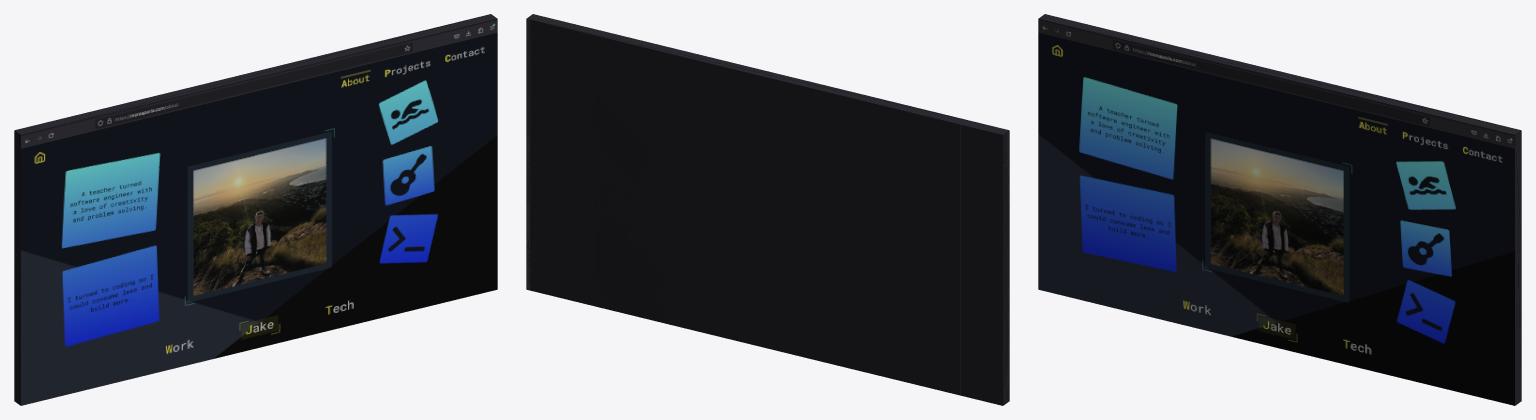
The model's file is about-jake.glb.
The picture shows the model from 3 angles, left to right: view 1: azimuth 30°, elevation 25°; view 2: azimuth 150°, elevation 25°; view 3: azimuth 330°, elevation 25°; orthographic projection.
Parts seen in each view (by area): view 1: AboutJake, AboutJake_cell.003_cell.004, AboutJake_cell.003_cell.002, AboutJake_cell.005_cell.001, AboutJake_cell.005_cell.007_cell.013, AboutJake_cell.006, AboutJake_cell.005_cell.003, AboutJake_cell.002_cell.004, AboutJake_cell.005_cell.010, AboutJake_cell.003_cell.005, AboutJake_cell_cell; view 2: AboutJake, AboutJake_cell.003_cell.001, AboutJake_cell.005_cell.007_cell.013, AboutJake_cell.005_cell.002, AboutJake_cell_cell, AboutJake_cell.005_cell.010, AboutJake_cell.001_cell.015, AboutJake_cell.005_cell.001, AboutJake_cell.002_cell.003, AboutJake_cell.003_cell.004, AboutJake_cell_cell.007, AboutJake_cell.005_cell.007_cell.003 (+5 smaller); view 3: AboutJake, AboutJake_cell.003_cell.004, AboutJake_cell.003_cell.002, AboutJake_cell.005_cell.001, AboutJake_cell.005_cell.007_cell.013, AboutJake_cell.006, AboutJake_cell.005_cell.003, AboutJake_cell.002_cell.004, AboutJake_cell.005_cell.010, AboutJake_cell.003_cell.005, AboutJake_cell.004.
Part boxes in pixels (x1,y1,x2,y2): AboutJake: [14, 14, 497, 404]; AboutJake_cell.003_cell.004: [241, 49, 404, 184]; AboutJake_cell.003_cell.002: [119, 147, 258, 271]; AboutJake_cell.005_cell.001: [393, 108, 497, 206]; AboutJake_cell.005_cell.007_cell.013: [375, 231, 437, 311]; AboutJake_cell.006: [422, 26, 480, 117]; AboutJake_cell.005_cell.003: [226, 307, 316, 355]; AboutJake_cell.002_cell.004: [16, 363, 93, 405]; AboutJake_cell.005_cell.010: [371, 103, 439, 165]; AboutJake_cell.003_cell.005: [253, 146, 315, 178]; AboutJake_cell_cell: [14, 259, 20, 374]; AboutJake: [526, 14, 1009, 405]; AboutJake_cell.003_cell.001: [769, 80, 903, 181]; AboutJake_cell.005_cell.007_cell.013: [584, 232, 652, 312]; AboutJake_cell.005_cell.002: [526, 201, 586, 300]; AboutJake_cell_cell: [974, 262, 1009, 372]; AboutJake_cell.005_cell.010: [562, 89, 645, 173]; AboutJake_cell.001_cell.015: [964, 167, 1009, 250]; AboutJake_cell.005_cell.001: [526, 102, 610, 200]; AboutJake_cell.002_cell.003: [843, 334, 947, 371]; AboutJake_cell.003_cell.004: [695, 60, 776, 122]; AboutJake_cell_cell.007: [967, 218, 1009, 278]; AboutJake_cell.005_cell.007_cell.003: [627, 289, 688, 326]; AboutJake: [1038, 14, 1521, 405]; AboutJake_cell.003_cell.004: [1259, 72, 1421, 224]; AboutJake_cell.003_cell.002: [1136, 109, 1275, 252]; AboutJake_cell.005_cell.001: [1410, 196, 1514, 318]; AboutJake_cell.005_cell.007_cell.013: [1392, 306, 1454, 386]; AboutJake_cell.006: [1440, 123, 1498, 225]; AboutJake_cell.005_cell.003: [1243, 324, 1334, 361]; AboutJake_cell.002_cell.004: [1038, 271, 1110, 307]; AboutJake_cell.005_cell.010: [1388, 182, 1457, 229]; AboutJake_cell.003_cell.005: [1270, 143, 1332, 206]; AboutJake_cell.004: [1515, 130, 1521, 252].
Size of the model in its own units: 3.68 by 2 by 0.0872.
Materials: 1 (1 with a texture image).
